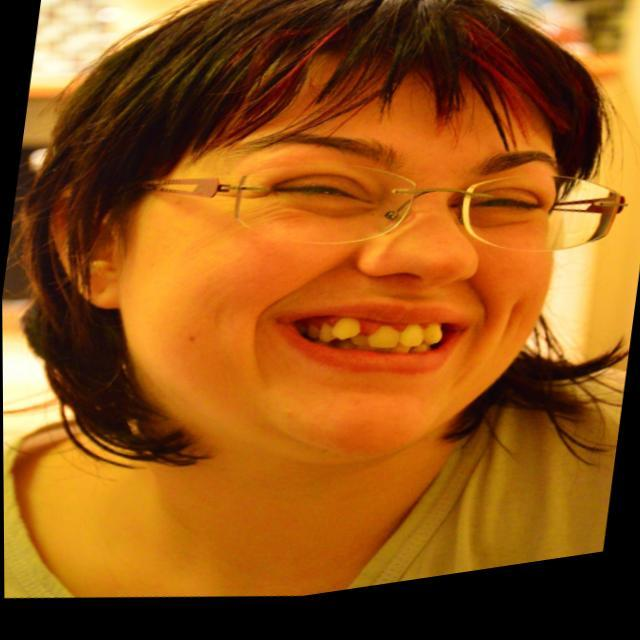Nonhelmet: (14, 0, 626, 476)
